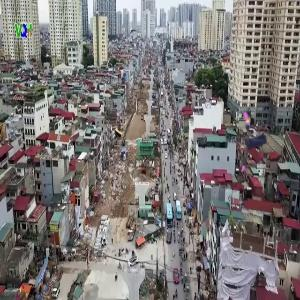drone: (223, 104, 289, 170)
